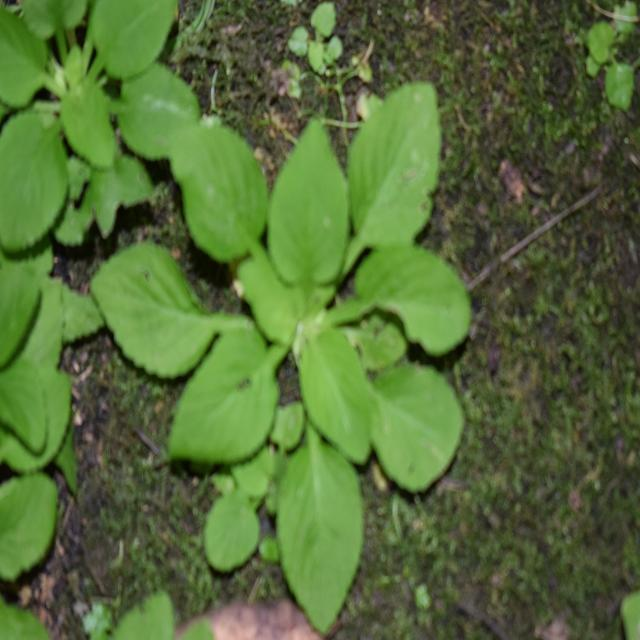Viola: (146, 111, 466, 584)
